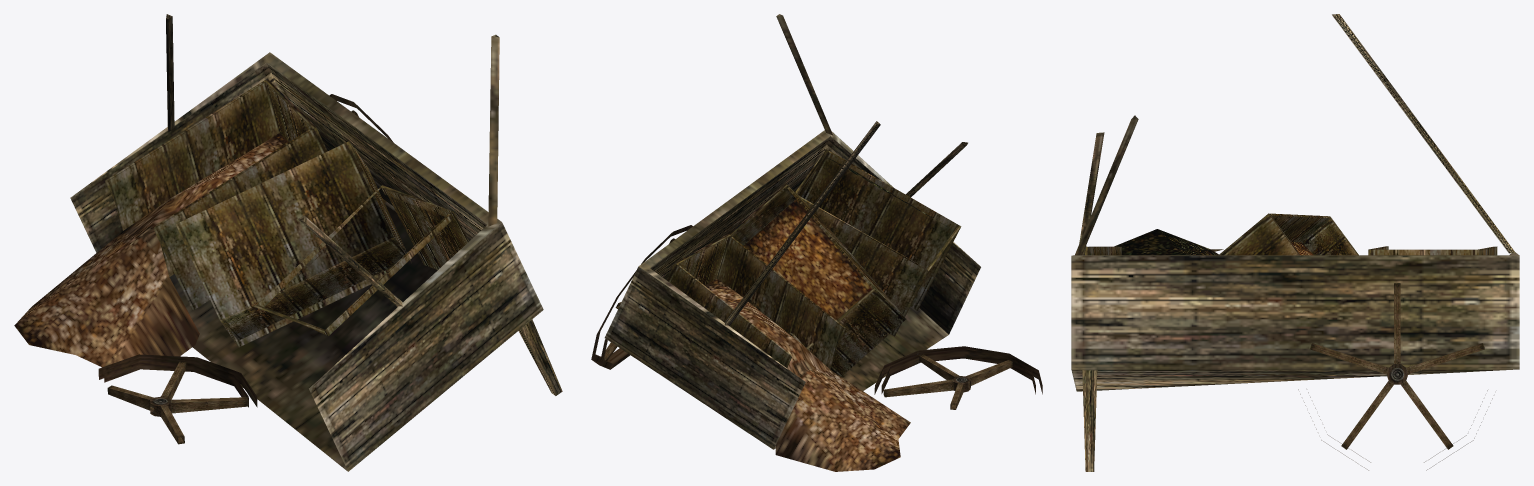
File: VndCrtX.glb
3 views of the same model, side by side, from view 1: azimuth 30°, elevation 25°; view 2: azimuth 150°, elevation 25°; view 3: azimuth 270°, elevation 25° (orthographic). The views are drawn at different scales.
Parts seen in each view (by area): view 1: _VndCrtX; view 2: _VndCrtX; view 3: _VndCrtX.
Boxes of the visible parts, x1,y1,x2,y2 form: _VndCrtX: (14,14,562,471); _VndCrtX: (591,14,1042,471); _VndCrtX: (1071,14,1519,471).
Size of the model in its own units: 2.56 by 2.12 by 2.41.
Materials: 1 (1 with a texture image).
